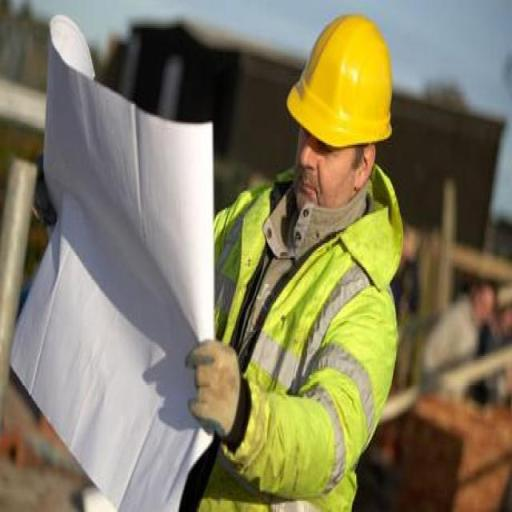helmet: (284, 7, 397, 156)
vest: (192, 178, 408, 510)
